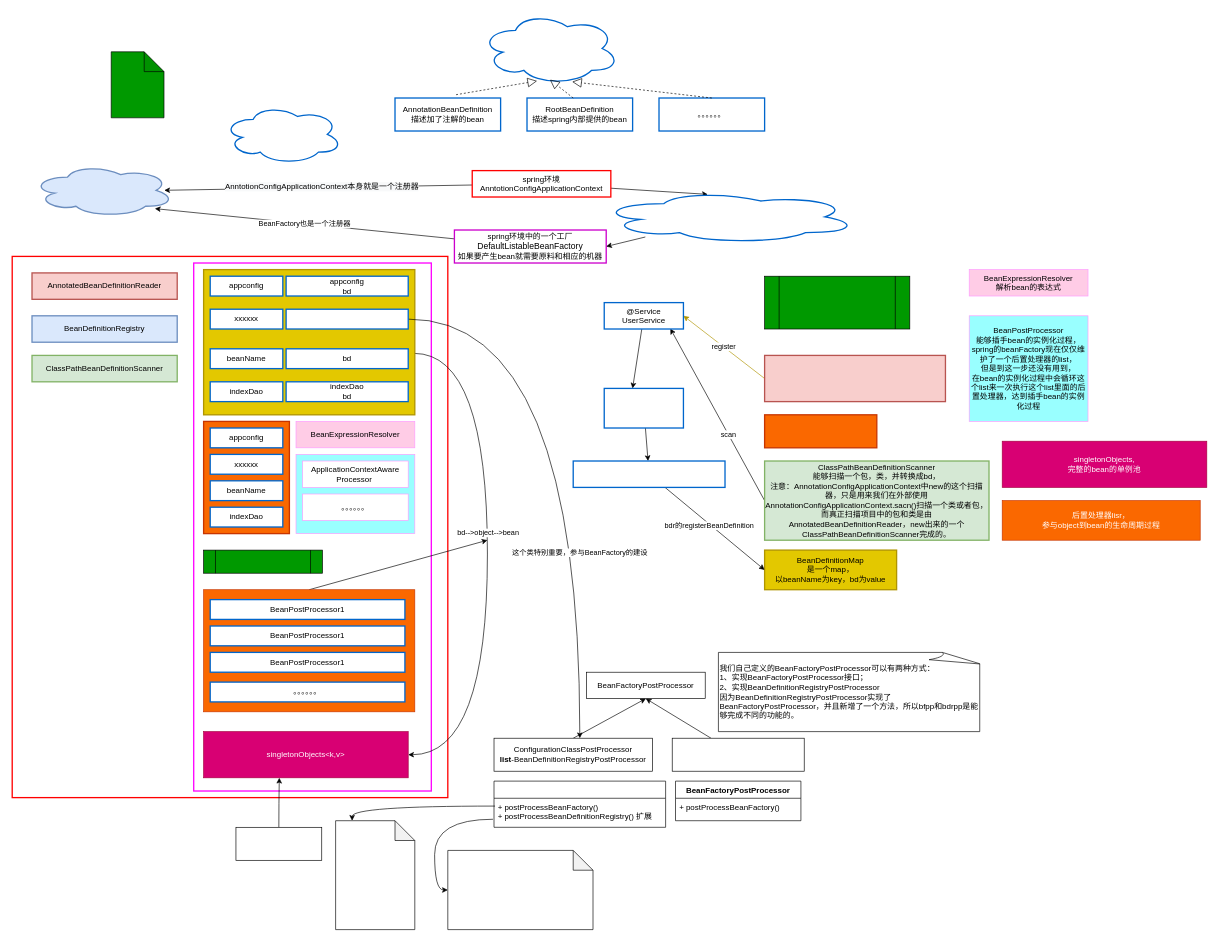
Some shapes in this 1218 by 941 pixel diagram are drawn without their labels. Here are the shapes that lost their labels. From the top down, the box of each, then its label:
(480, 11, 620, 85): BeanDefinition 简称bd 一个bean的描述， 类似于java中class类 是对所有java类的描述
(222, 104, 343, 164): BeanDefinitionHolder 就是一个map， 方便传参，简称bdh
(31, 163, 174, 217): BeanDefinitionRegistry简称bdr 把一个bd注册到bdmap中
(599, 189, 857, 244): spring环境初始化的时候， 首先调用它的父类GenericApplicationContext 的构造方法 初始化一个工厂
(285, 308, 409, 329): ConfigurationClassPostProcessor bd
(764, 276, 910, 329): getBeanNamesForType beanFactory中的一个方法， 通过类型得到一个beanName， 这里的type指的是class类型
(764, 354, 946, 402): AnnotatedBeanDefinitionReader是一个bd读取器，它通过register方法手动读取一个加了注解的类，然后将其转换为bd
(603, 387, 684, 428): 通过一个BeanDefinition的实现类的构造方法
(764, 414, 877, 448): beanDefinitionNames 是一个list 存放了所有的beanName
(572, 460, 725, 488): bd pname、name、scope、lazy.、class.....
(203, 549, 322, 573): getBeanNamesForType
(672, 738, 804, 771): MyBeanFactoryPostProcessor list -BeanFactoryPostProcessor
(493, 780, 666, 827): BeanDefinitionRegistryPostProcessor
(235, 827, 322, 860): ac.getBean()， 就是从单例池中get一个bean
